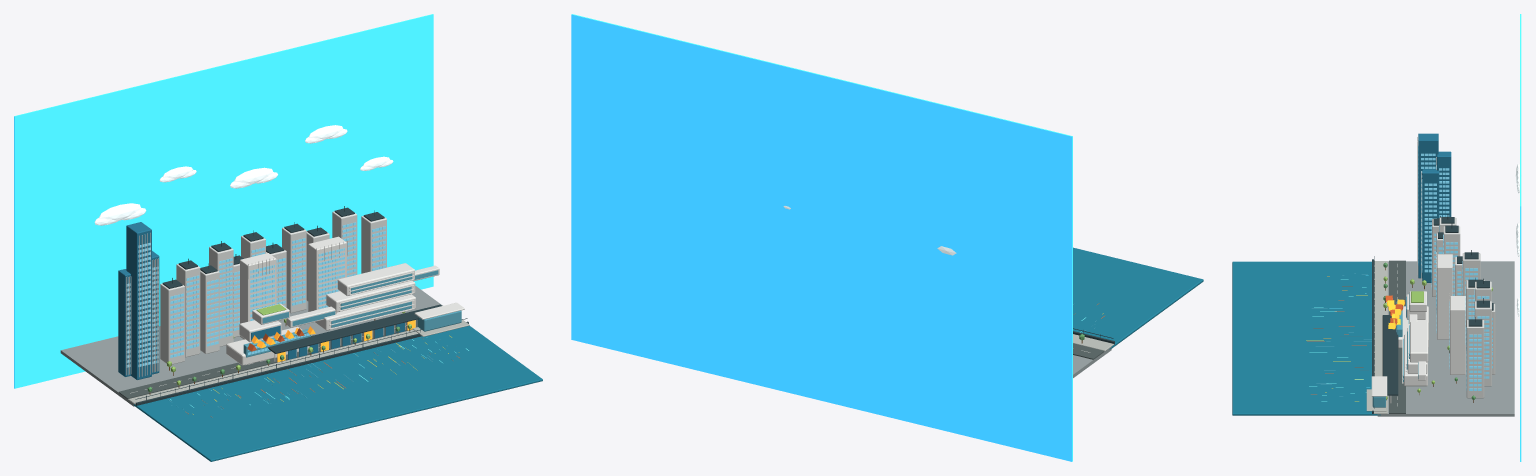
File: waterfront_city.glb
3 renders of one model, left to right at view 1: azimuth 30°, elevation 25°; view 2: azimuth 150°, elevation 25°; view 3: azimuth 270°, elevation 25°, orthographic. The views are drawn at different scales.
Visible parts, largest first — view 1: Sky Backdrop, Water Basin, City Ground, Blue Landmark 1, Frame Tower Core.001, Frame Tower Core, Waterfront Promenade, City Boulevard, Apartment Tower 1, Retail Roof, Apartment Tower 8, Apartment Tower 3 (+21 smaller); view 2: Sky Backdrop, Water Basin; view 3: Water Basin, City Ground, Waterfront Promenade, City Boulevard, Frame Tower Core.001, Blue Landmark 2, Frame Tower Core, Apartment Tower 11, Retail Roof, Blue Landmark 1, Sky Backdrop, Right Ribbon 3 (+11 smaller).
Part boxes in pixels (x1,y1,x2,y2): Sky Backdrop: (14,14,433,388); Water Basin: (133,325,542,461); City Ground: (60,286,442,406); Blue Landmark 1: (126,222,151,379); Frame Tower Core.001: (308,236,346,311); Frame Tower Core: (240,253,276,339); Waterfront Promenade: (128,329,417,404); City Boulevard: (118,319,417,398); Apartment Tower 1: (160,283,184,364); Retail Roof: (268,304,441,353); Apartment Tower 8: (282,227,306,313); Apartment Tower 3: (200,270,219,353); Sky Backdrop: (571,14,1072,461); Water Basin: (1073,247,1203,349); Water Basin: (1232,261,1380,415); City Ground: (1377,261,1514,416); Waterfront Promenade: (1374,261,1387,413); City Boulevard: (1389,260,1405,413); Frame Tower Core.001: (1450,296,1465,374); Blue Landmark 2: (1422,169,1439,282); Frame Tower Core: (1437,254,1452,339); Apartment Tower 11: (1466,320,1484,398); Retail Roof: (1382,315,1398,395); Blue Landmark 1: (1418,133,1438,278); Sky Backdrop: (1520,14,1521,461); Right Ribbon 3: (1410,322,1428,362).
Size of the model in its own units: 116 by 72 by 73.74.
